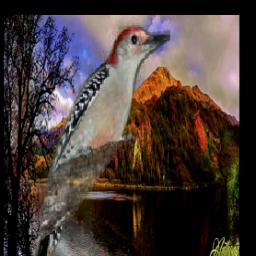Woodpecker: (32, 23, 170, 256)
